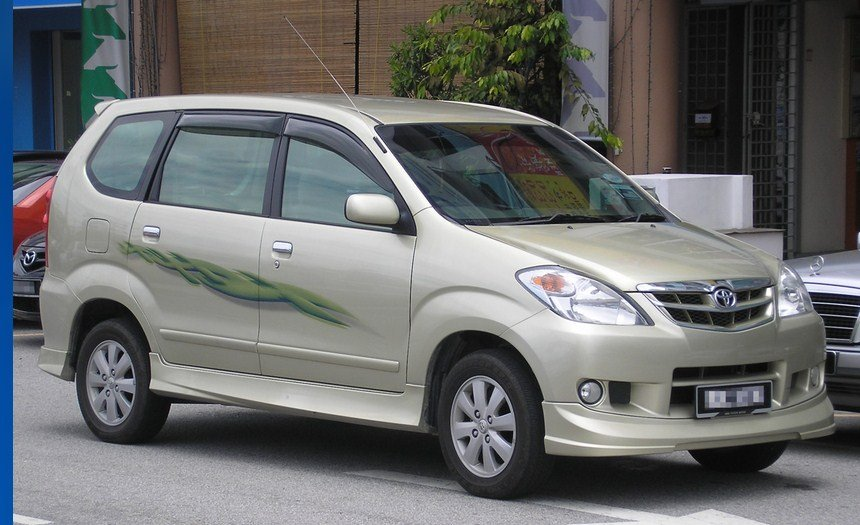mobil: (53, 95, 834, 487)
